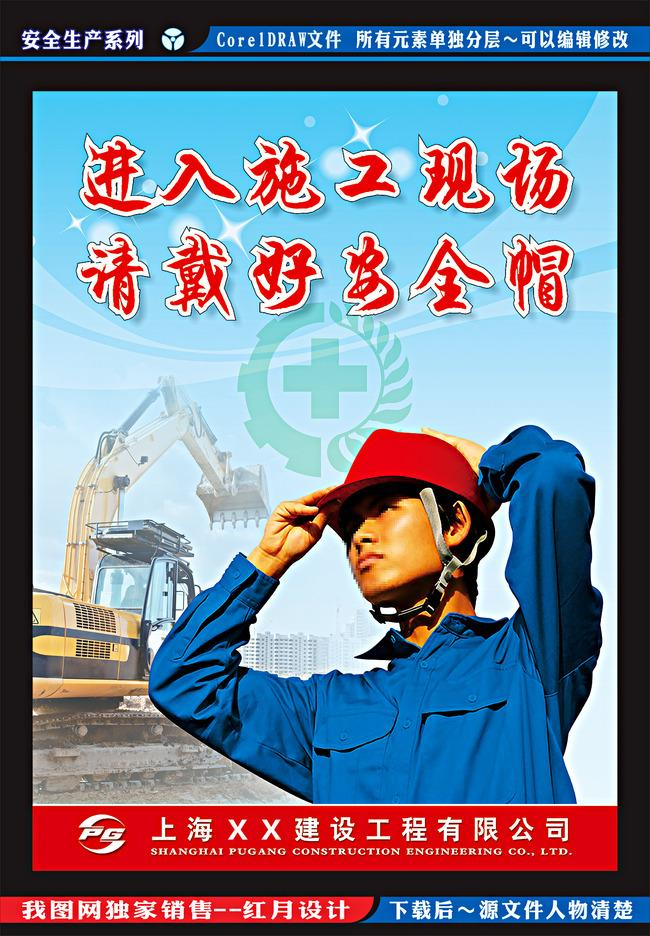helmet: (316, 428, 490, 527)
